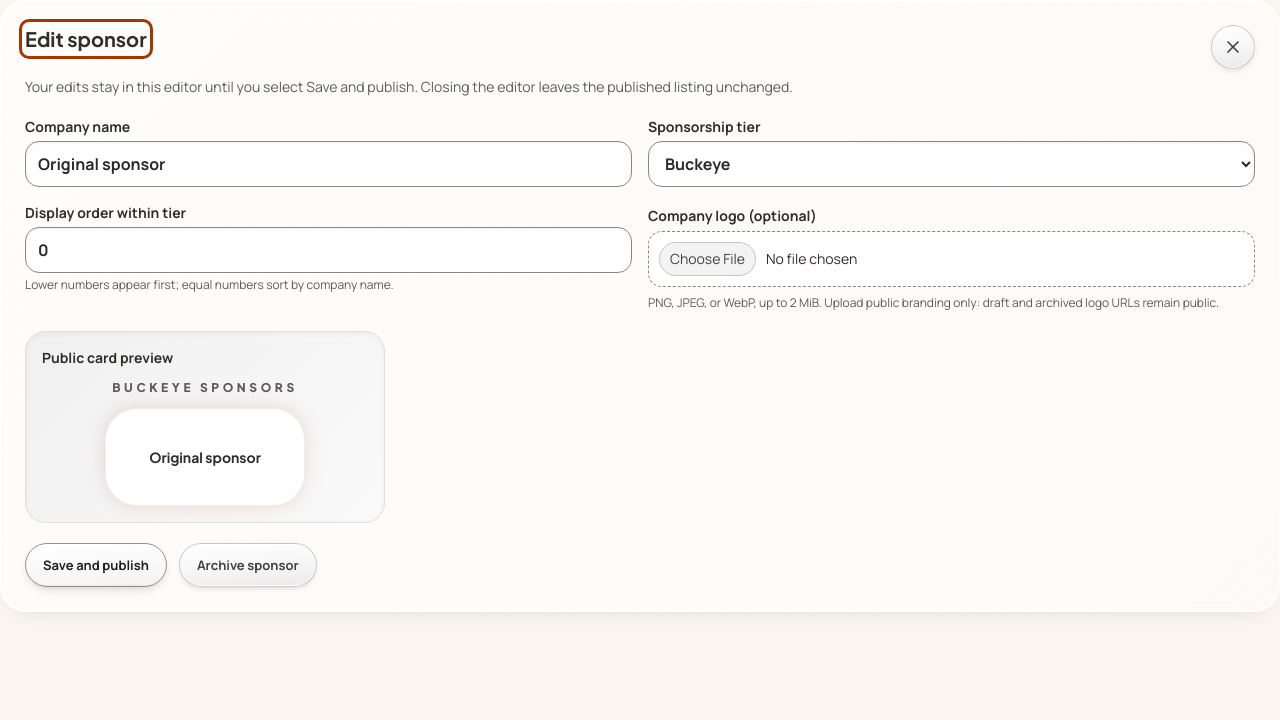
sponsor editor interactions › preserves stored website and academic year when editing the visible sponsor fields
Step 1. Replace the text in the field labelled "Company name" with "Updated sponsor" → (328, 164), box 25,141 -> 632,187
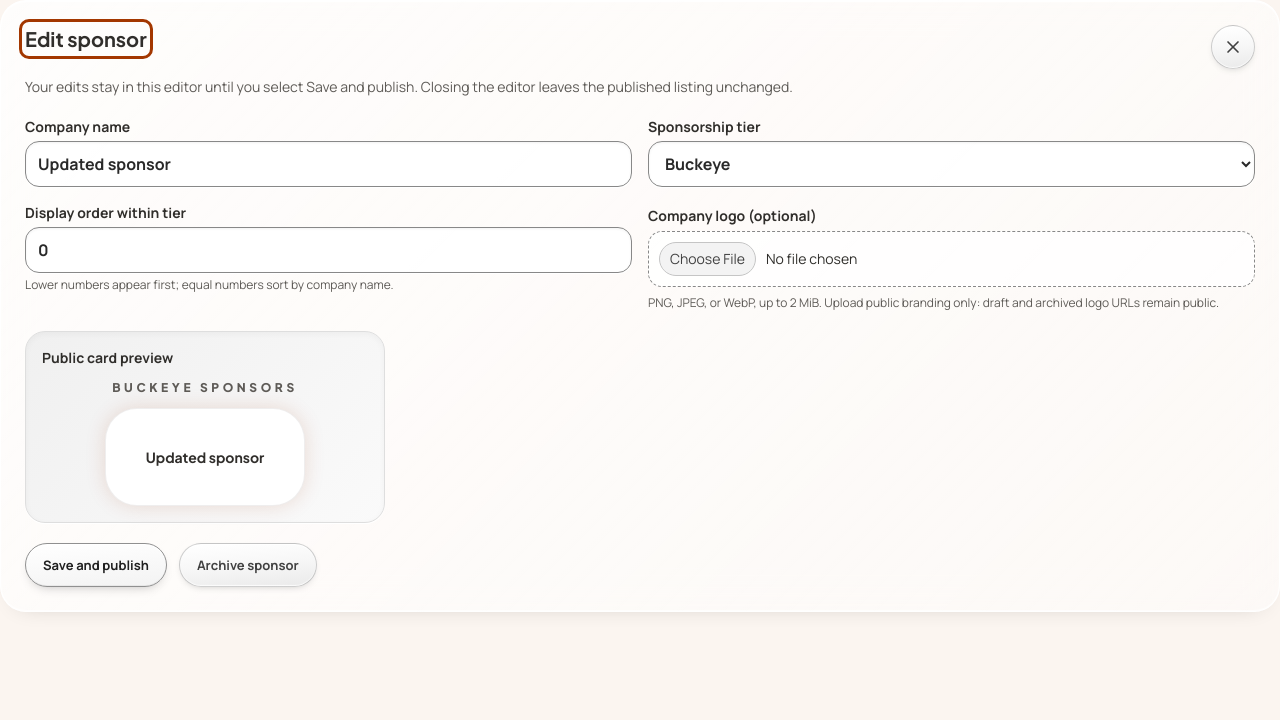
Step 2. Click the button "Save and publish" → (96, 565), box 25,543 -> 167,587
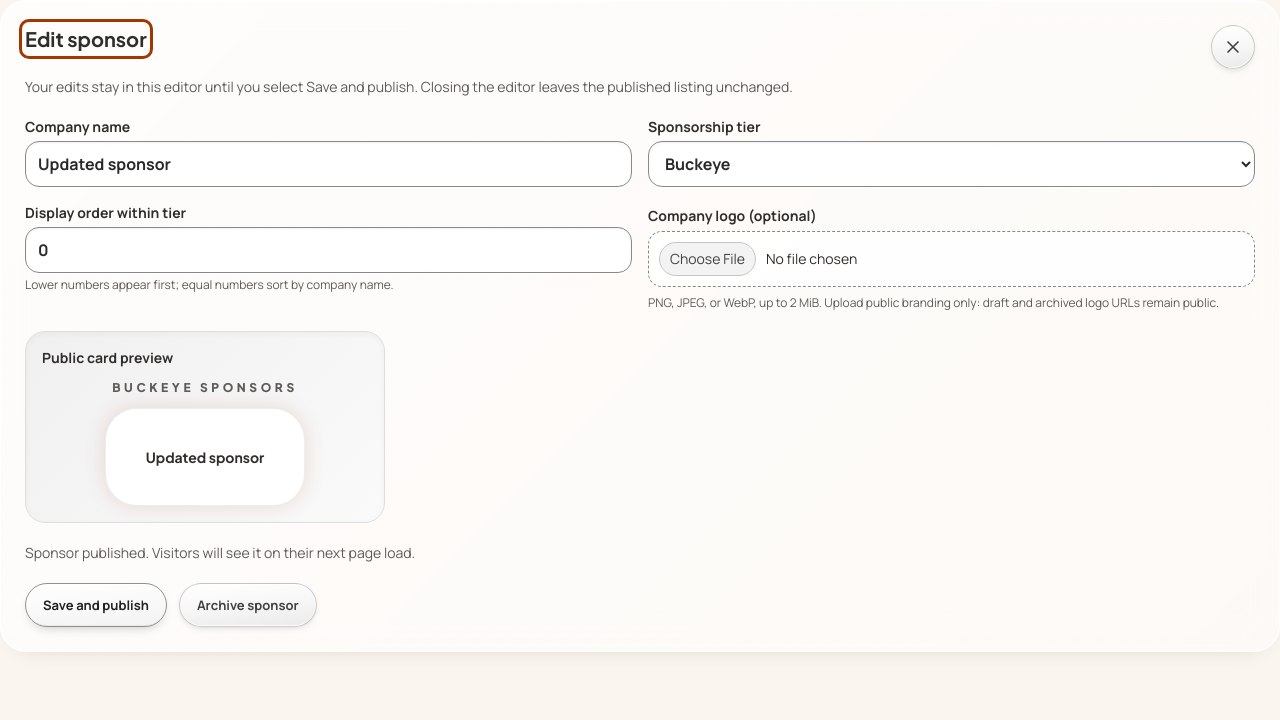
Result: the text "Sponsor published. Visitors will see it on their next page load." is shown at 25,543 -> 415,562
